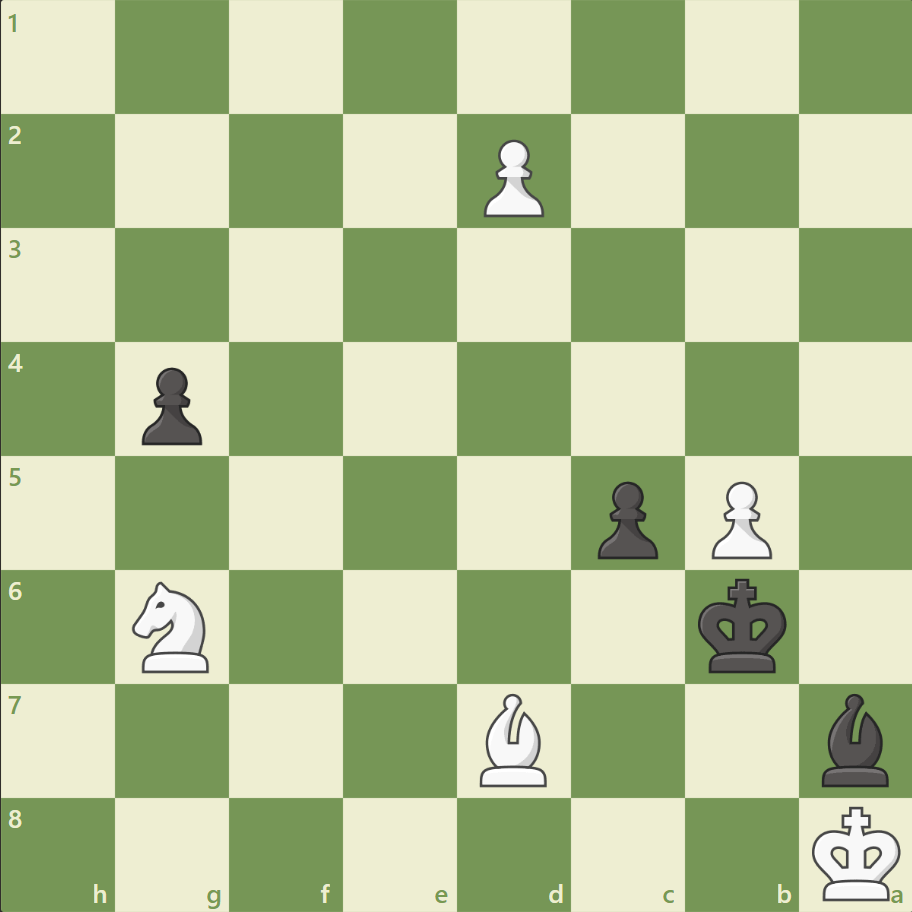B: (471, 687, 555, 790)
K: (806, 798, 906, 906)
N: (124, 575, 222, 677)
P: (701, 473, 776, 564), (474, 132, 549, 223)
b: (812, 687, 896, 790)
k: (692, 571, 792, 679)
p: (133, 359, 208, 450), (588, 473, 662, 564)
